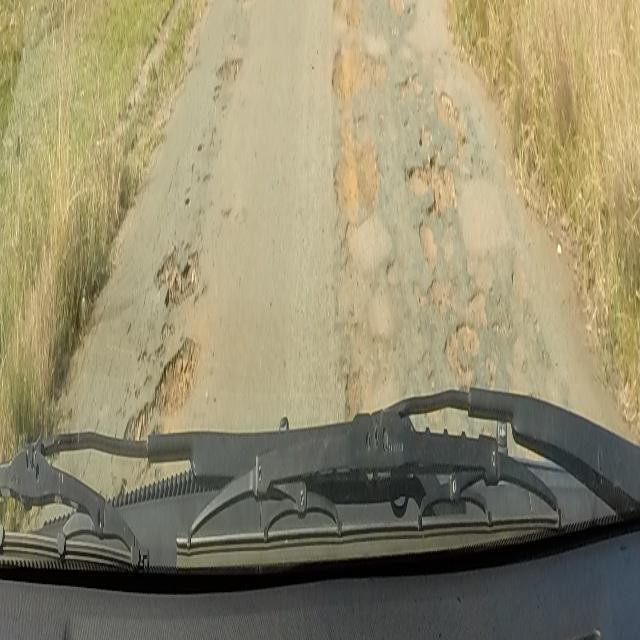pothole: (327, 43, 389, 224), (122, 322, 198, 448), (436, 283, 519, 391), (403, 115, 458, 232), (153, 238, 201, 310), (438, 70, 465, 142), (216, 49, 243, 85), (239, 0, 270, 16)
